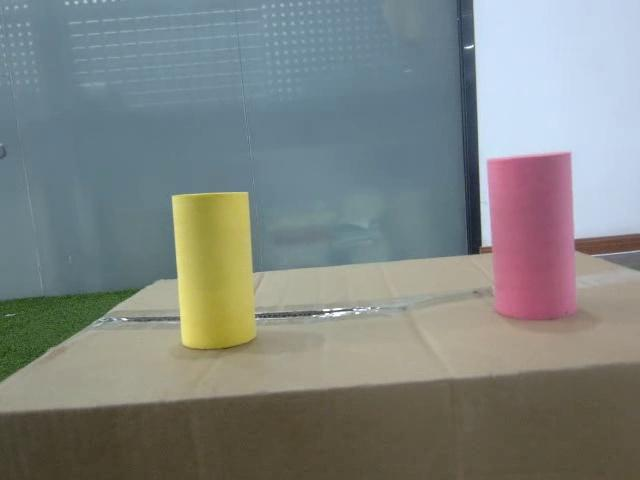red_cylinder: (488, 151, 578, 320)
yellow_cylinder: (172, 192, 256, 349)
